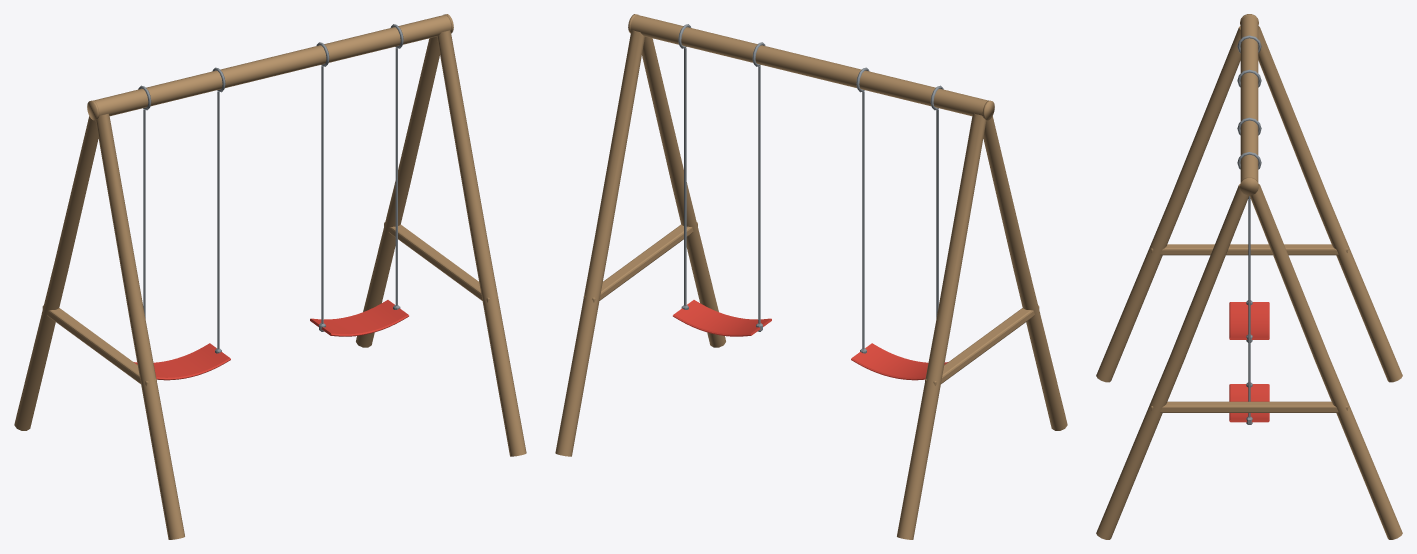
The model's file is swingSet.glb.
3 renders of one model, left to right at view 1: azimuth 30°, elevation 25°; view 2: azimuth 150°, elevation 25°; view 3: azimuth 270°, elevation 25°, orthographic. The views are drawn at different scales.
Visible parts, largest first — view 1: frame, seats; view 2: frame, seats; view 3: frame, seats.
Part boxes in pixels (x1,y1,x2,y2): frame: (14,14,526,539); seats: (134,24,408,380); frame: (555,14,1067,539); seats: (673,24,947,380); frame: (1096,14,1402,539); seats: (1229,35,1269,424).
Bounding box in the file's own units: 1.92 × 1.99 × 1.51.
